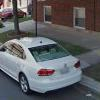Car: (0, 31, 82, 93)
